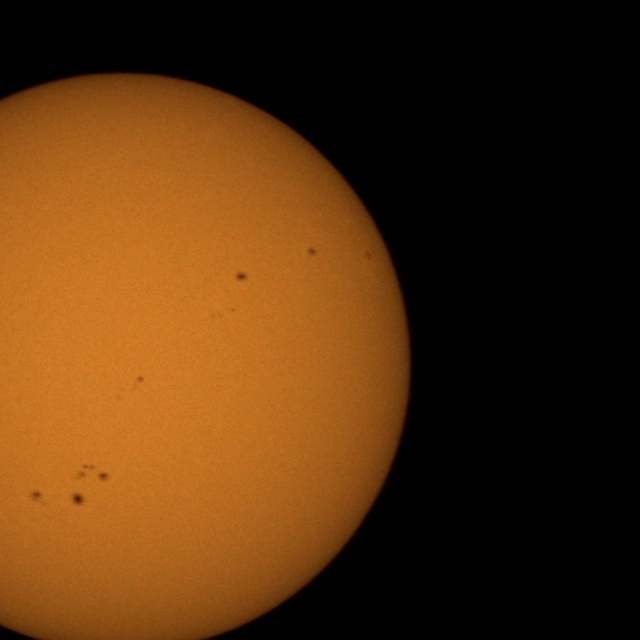sunspot: (75, 464, 110, 486), (70, 491, 86, 507), (30, 489, 45, 505), (234, 271, 249, 283), (97, 471, 110, 484), (134, 375, 145, 388), (307, 247, 317, 258)
